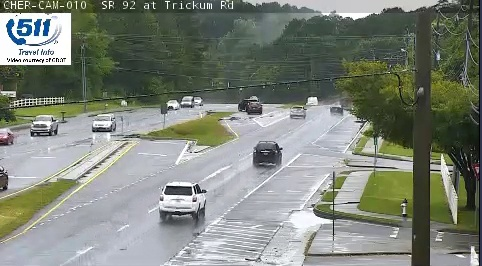car: (159, 182, 206, 214), (253, 142, 281, 163), (289, 105, 306, 117)
